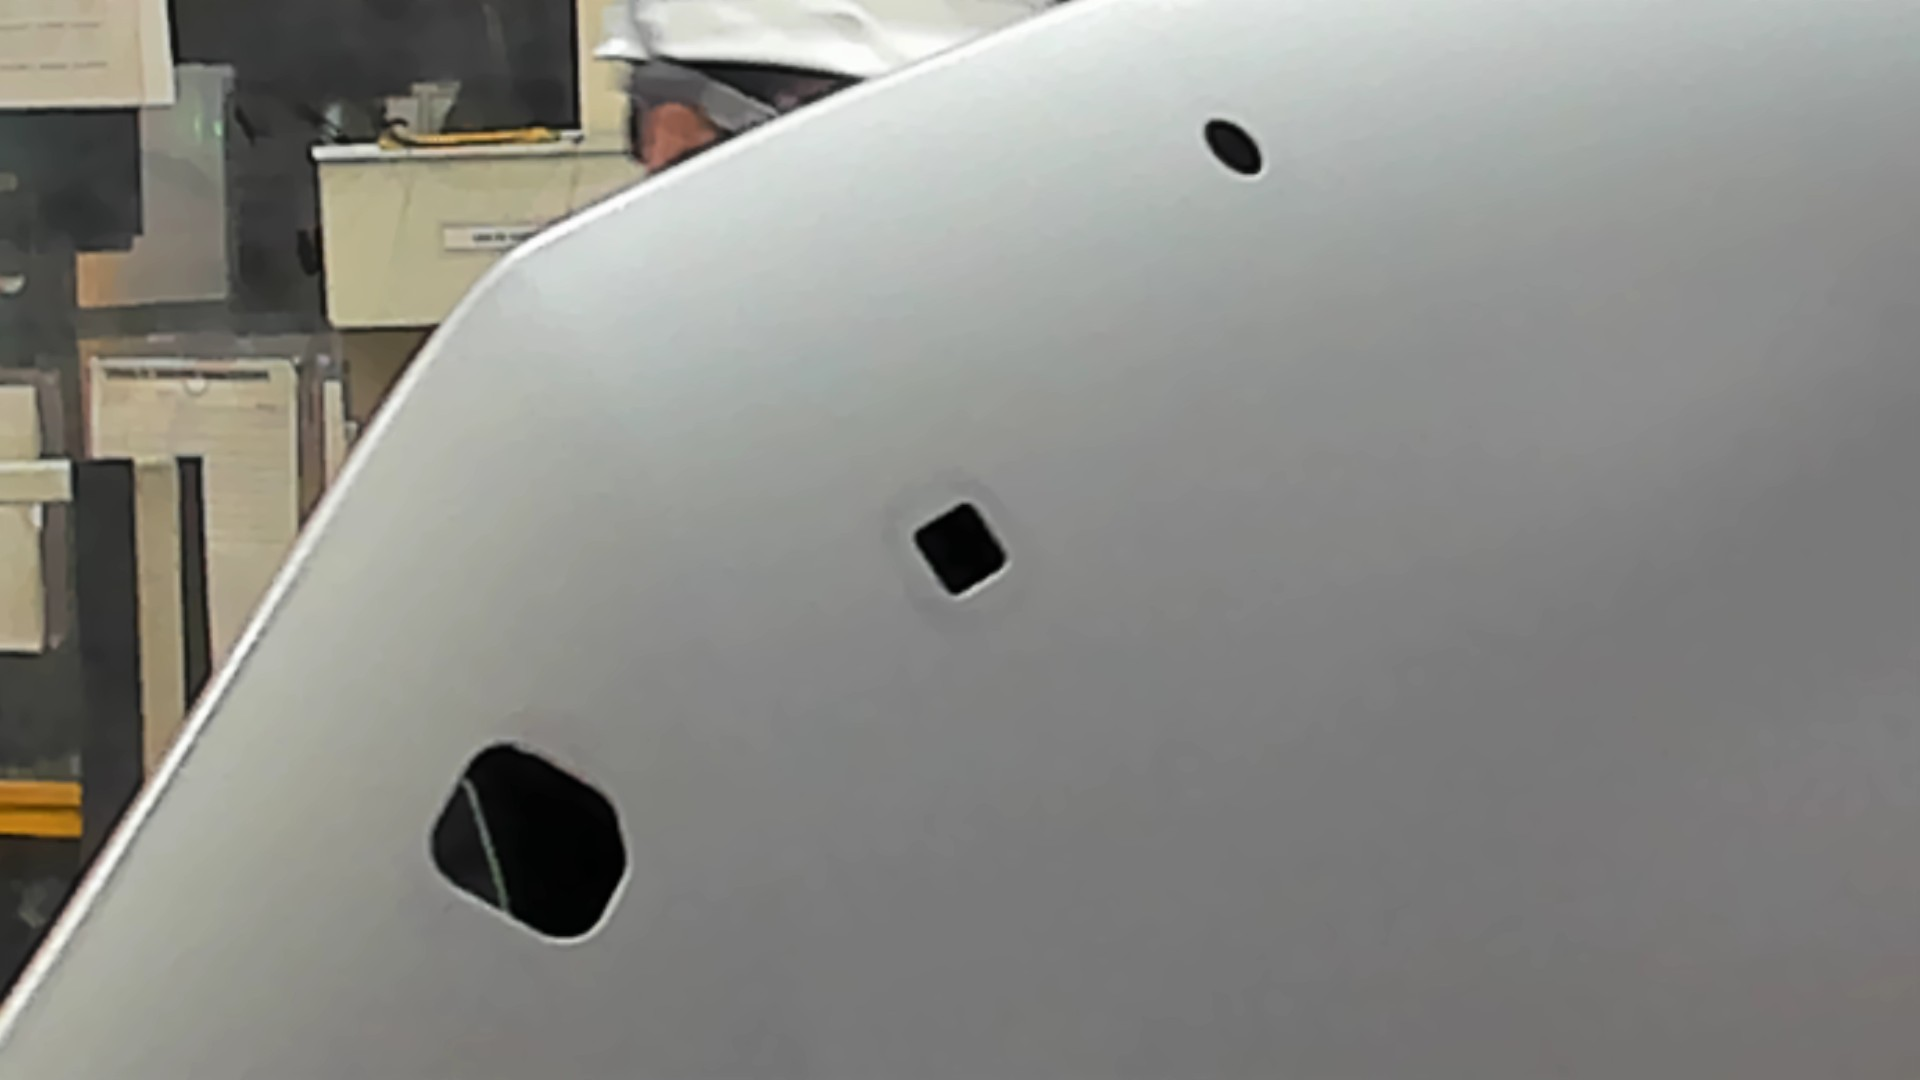Agujero: (910, 498, 1009, 600), (1203, 116, 1265, 175)
Agujerote: (425, 740, 632, 947)
